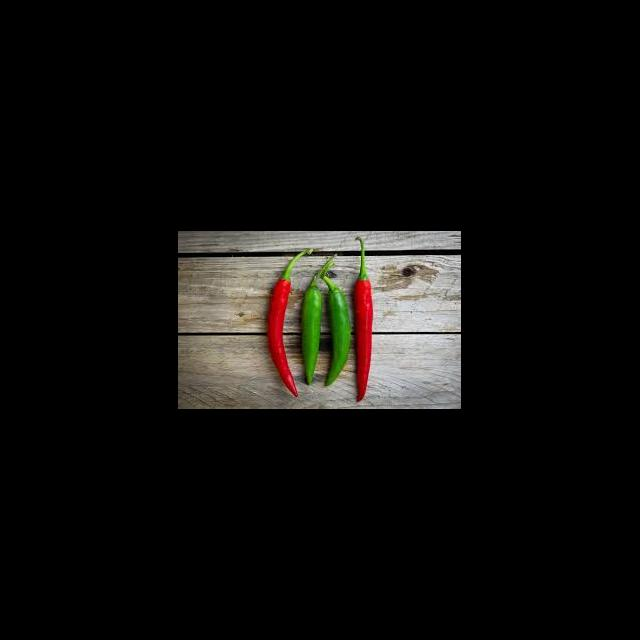chili_pepper: (269, 279, 301, 397), (329, 288, 355, 386), (354, 272, 374, 391), (300, 287, 323, 385)
